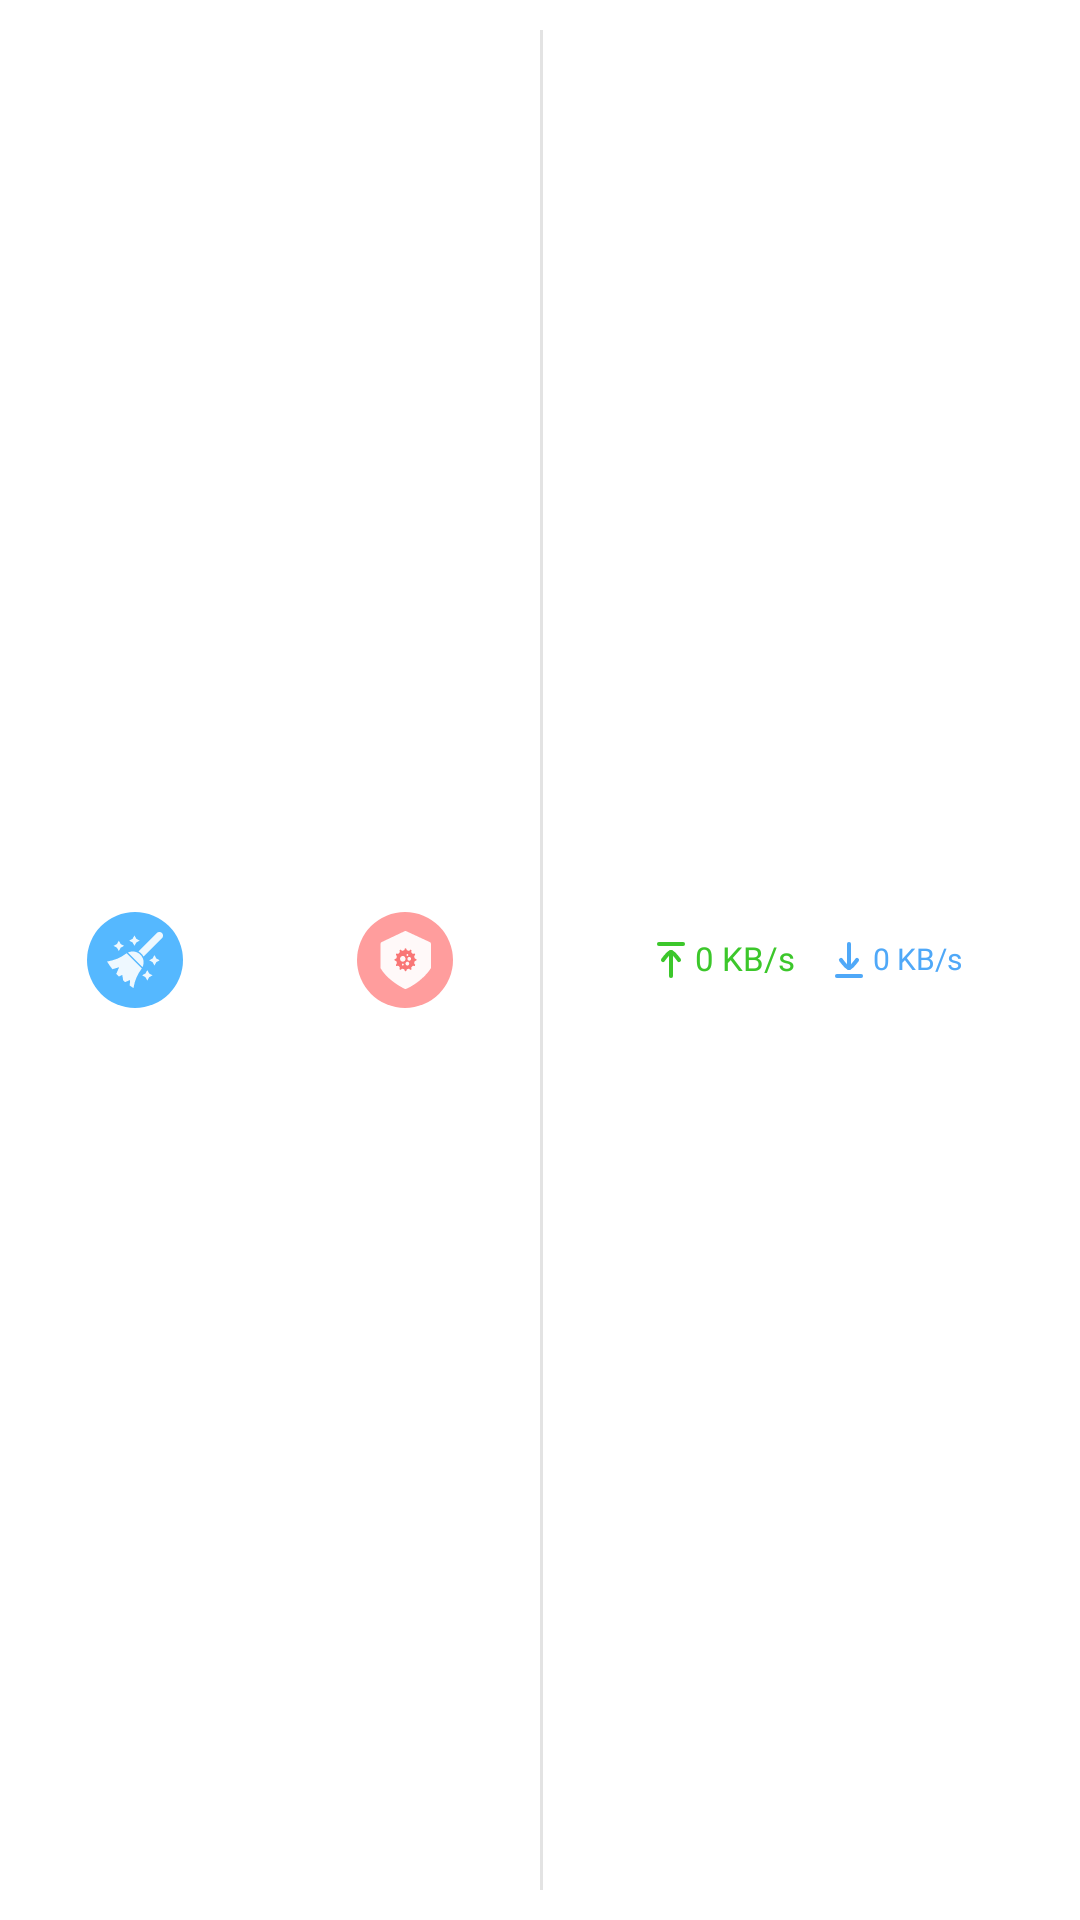

Icon bounding boxes for this 1080 × 1920 phone screenshot, format bbox(x1, y1, x2, y2):
Antivirus: bbox(357, 912, 453, 1008)
Clean: bbox(87, 912, 183, 1008)
net arrow down: bbox(835, 942, 863, 978)
net arrow up: bbox(657, 942, 685, 978)
